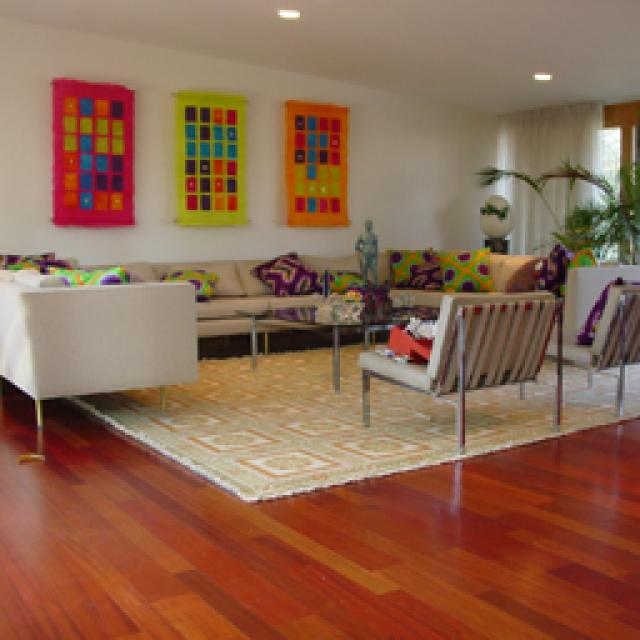2001: (590, 122, 618, 262)
ceiling lamps: (528, 68, 552, 80), (275, 5, 298, 15)
chair -occluded-: (358, 295, 560, 450), (538, 282, 638, 415)
curtain crop: (502, 100, 598, 252)
decorations: (305, 288, 360, 320)
painting crop: (52, 75, 135, 222), (172, 88, 245, 218), (288, 100, 345, 225)
pillow occluded: (0, 248, 130, 285), (570, 272, 628, 345), (380, 312, 435, 368), (250, 250, 322, 290), (160, 265, 212, 295)
pillows: (385, 248, 488, 288)
plant -x: (488, 158, 632, 258)
rug -partially obscured-: (75, 328, 632, 498)
small table part: (238, 300, 438, 390)
sofa bed: (0, 245, 562, 460), (0, 265, 192, 452)
statue: (352, 215, 378, 280), (480, 192, 510, 245)
